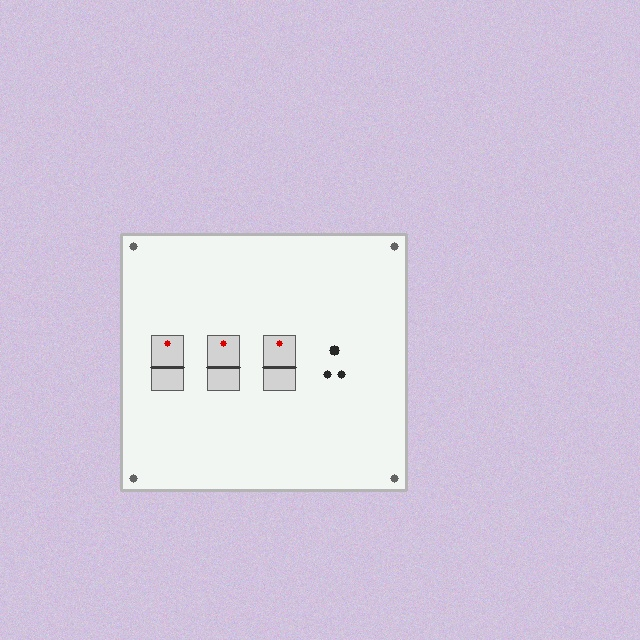switchboard: (121, 234, 406, 490)
